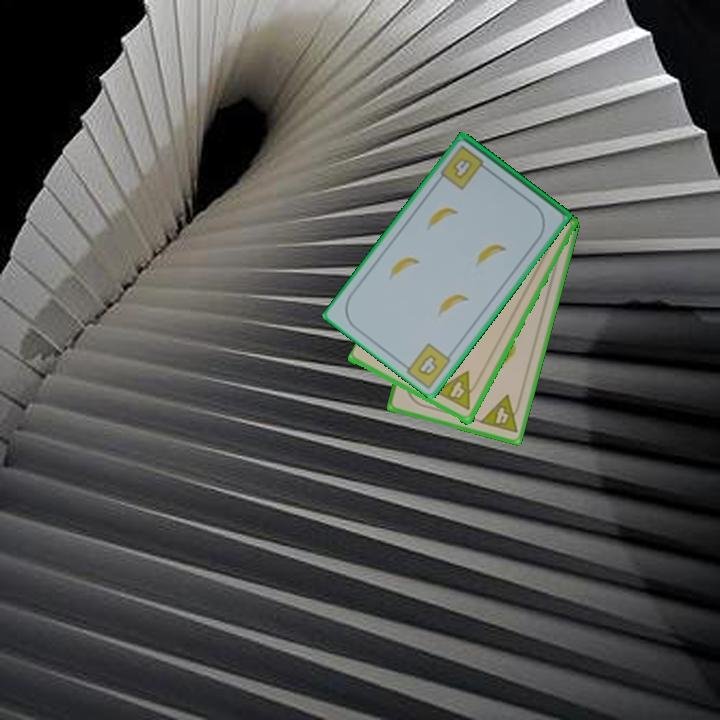4b: (437, 142, 493, 193), (414, 351, 441, 379)
4p: (432, 368, 483, 413), (476, 391, 525, 436)
